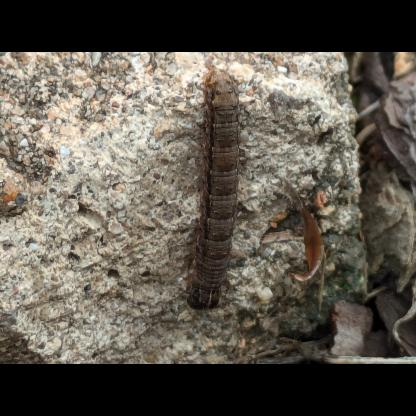Fall Armyworm Larvae: (179, 61, 245, 313)
